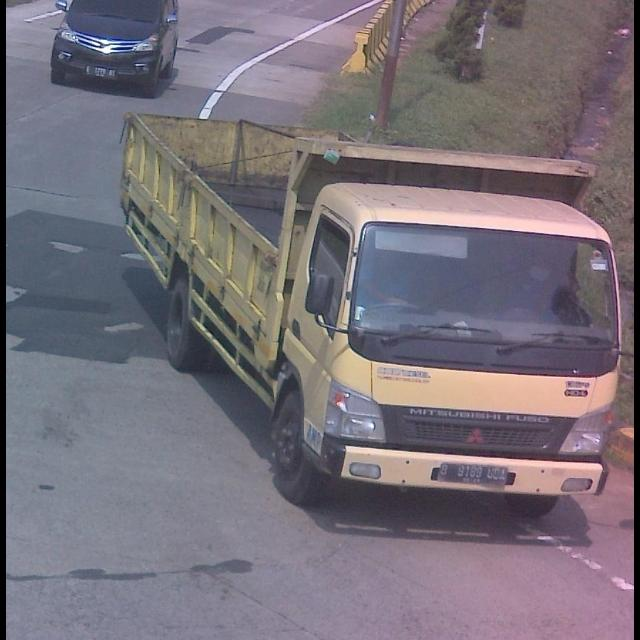plate: (434, 458, 514, 486)
